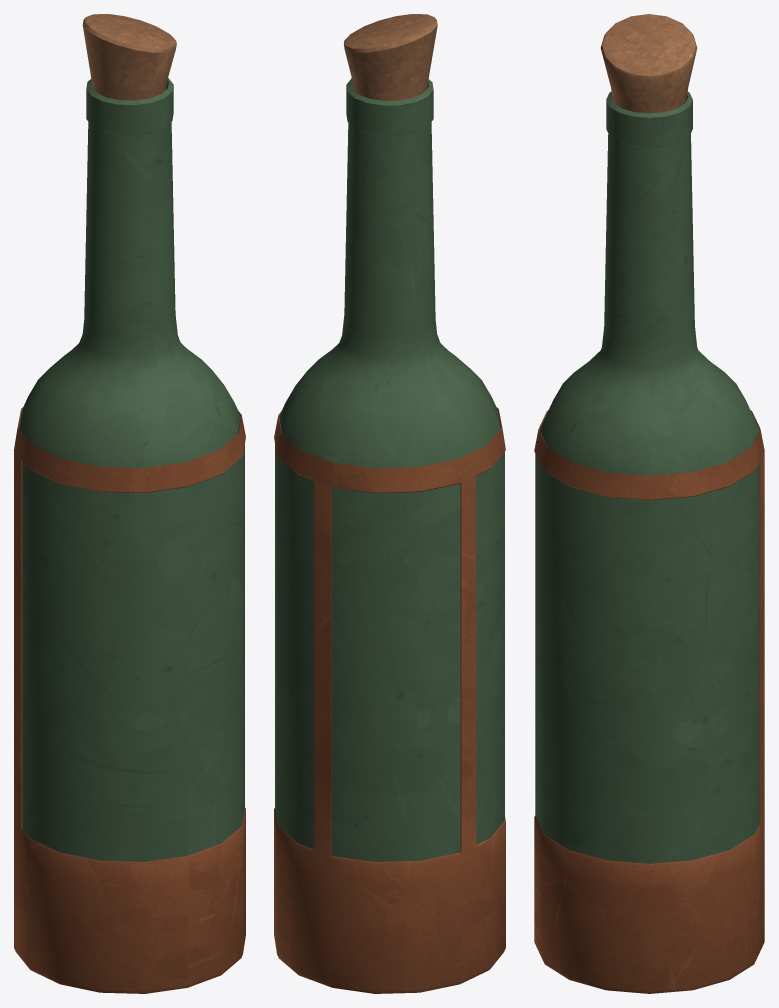
Rendered from animasyonlu_objeler.fbx.
The picture shows the model from 3 angles, left to right: view 1: azimuth 30°, elevation 25°; view 2: azimuth 150°, elevation 25°; view 3: azimuth 270°, elevation 25°; orthographic projection.
Parts seen in each view (by area): view 1: şişe, deri, tıpa; view 2: şişe, deri, tıpa; view 3: şişe, deri, tıpa.
Part boxes in pixels (x1,y1,x2,y2): şişe: [19, 78, 244, 861]; deri: [14, 407, 245, 993]; tıpa: [82, 14, 176, 100]; şişe: [275, 78, 504, 861]; deri: [274, 407, 505, 993]; tıpa: [343, 14, 437, 100]; şişe: [535, 91, 759, 863]; deri: [534, 410, 764, 993]; tıpa: [600, 14, 697, 113].
Bounding box in the file's own units: 140 × 612 × 140.
Materials: 1 (1 with a texture image).
